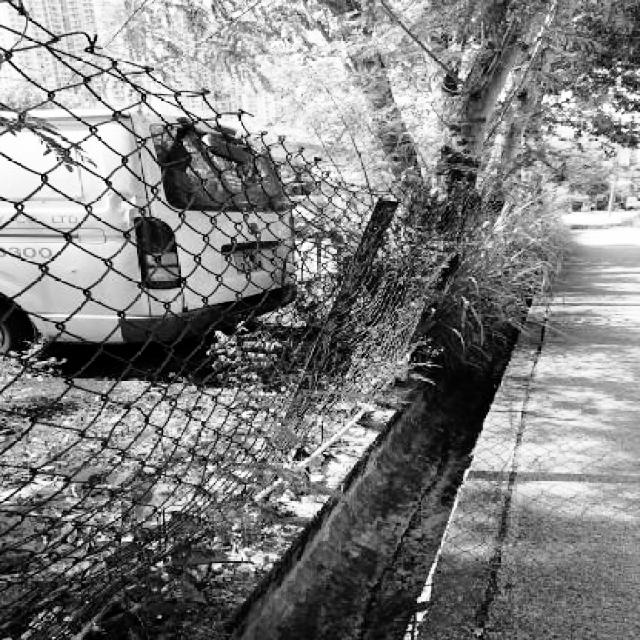anomaly-fence: (242, 110, 468, 502)
